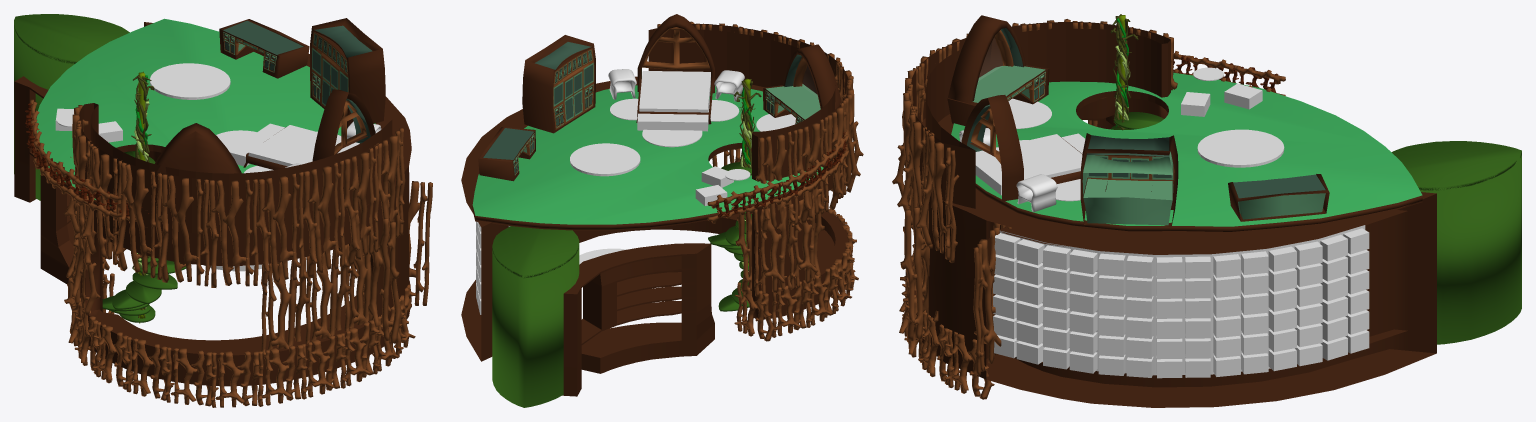
Rendered from Level4.fbx.
The picture shows the model from 3 angles, left to right: view 1: azimuth 30°, elevation 25°; view 2: azimuth 150°, elevation 25°; view 3: azimuth 270°, elevation 25°; orthographic projection. The views are drawn at different scales.
Parts seen in each view (by area): view 1: Stick.005, LirbrariansQuarters.Platform.001, Stick.006, FrontDesk.Lvl1.003, Walls.LivingQuarters.Lvl4, Stick.009, Desk.UNTOUCHED.002, Shelf.001, Stick.008, BookLift.Lvl4, Desk.UNTOUCHED.003, Desk.UNTOUCHED.004 (+12 smaller); view 2: LirbrariansQuarters.Platform.001, Shelf.001, BookLift.Lvl4.001, FrontDesk.Lvl1.003, Walls.LivingQuarters.Lvl4, Stick.005, Desk.UNTOUCHED.002, Stick.006, Stick.007, Desk.UNTOUCHED.001, BookLift.Lvl4, Cube.005 (+16 smaller); view 3: LibrariansArchive.Lvl1, FrontDesk.Lvl1.003, LirbrariansQuarters.Platform.001, BookLift.Lvl4.001, Walls.LivingQuarters.Lvl4, Desk.UNTOUCHED.002, Stick.005, Desk.UNTOUCHED.001, Stick.008, BookLift.Lvl4, Desk.UNTOUCHED.003, Stick.006 (+11 smaller).
Boxes of the visible parts, left/top/right/bottom form: Stick.005: left=64, top=105, right=405, bottom=287; LirbrariansQuarters.Platform.001: left=36, top=18, right=375, bottom=210; Stick.006: left=64, top=273, right=415, bottom=407; FrontDesk.Lvl1.003: left=80, top=22, right=411, bottom=386; Walls.LivingQuarters.Lvl4: left=79, top=103, right=392, bottom=235; Stick.009: left=261, top=235, right=371, bottom=355; Desk.UNTOUCHED.002: left=310, top=18, right=385, bottom=128; Shelf.001: left=14, top=76, right=112, bottom=283; Stick.008: left=363, top=181, right=432, bottom=343; BookLift.Lvl4: left=14, top=14, right=129, bottom=64; Desk.UNTOUCHED.003: left=219, top=19, right=309, bottom=78; Desk.UNTOUCHED.004: left=243, top=89, right=375, bottom=169; LirbrariansQuarters.Platform.001: left=472, top=85, right=832, bottom=230; Shelf.001: left=562, top=243, right=714, bottom=396; BookLift.Lvl4.001: left=492, top=244, right=579, bottom=407; FrontDesk.Lvl1.003: left=461, top=76, right=848, bottom=361; Walls.LivingQuarters.Lvl4: left=648, top=24, right=848, bottom=181; Stick.005: left=657, top=21, right=863, bottom=233; Desk.UNTOUCHED.002: left=522, top=35, right=595, bottom=133; Stick.006: left=734, top=203, right=858, bottom=341; Stick.007: left=735, top=194, right=824, bottom=296; Desk.UNTOUCHED.001: left=763, top=44, right=841, bottom=124; BookLift.Lvl4: left=492, top=226, right=579, bottom=278; Cube.005: left=639, top=71, right=710, bottom=112; LibrariansArchive.Lvl1: left=993, top=225, right=1369, bottom=378; FrontDesk.Lvl1.003: left=912, top=97, right=1436, bottom=407; LirbrariansQuarters.Platform.001: left=951, top=72, right=1422, bottom=231; BookLift.Lvl4.001: left=1418, top=154, right=1521, bottom=344; Walls.LivingQuarters.Lvl4: left=909, top=22, right=1170, bottom=208; Desk.UNTOUCHED.002: left=1080, top=133, right=1178, bottom=227; Stick.005: left=892, top=19, right=1177, bottom=262; Desk.UNTOUCHED.001: left=947, top=15, right=1049, bottom=129; Stick.008: left=900, top=207, right=1011, bottom=375; BookLift.Lvl4: left=1391, top=141, right=1521, bottom=190; Desk.UNTOUCHED.003: left=1228, top=174, right=1329, bottom=221; Stick.006: left=899, top=249, right=994, bottom=399.
Bounding box in the file's own units: 1526 × 1136 × 2308.
